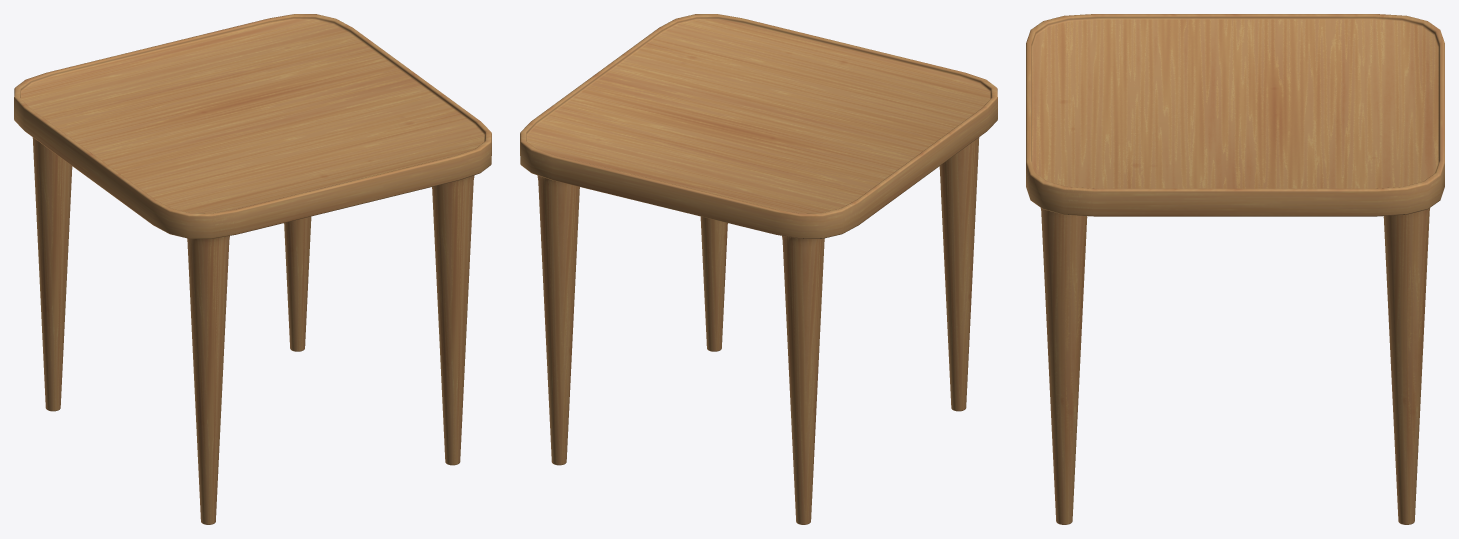
Rendered from coffee_table.obj.
3 views of the same model, side by side, from view 1: azimuth 30°, elevation 25°; view 2: azimuth 150°, elevation 25°; view 3: azimuth 270°, elevation 25° (orthographic). The views are drawn at different scales.
Parts seen in each view (by area): view 1: coffee_table; view 2: coffee_table; view 3: coffee_table.
Part boxes in pixels (x1,y1,x2,y2): coffee_table: (14,14,491,524); coffee_table: (520,14,997,524); coffee_table: (1026,14,1444,524).
Bounding box in the file's own units: 43 × 40.1 × 43.
Materials: 1 (1 with a texture image).
